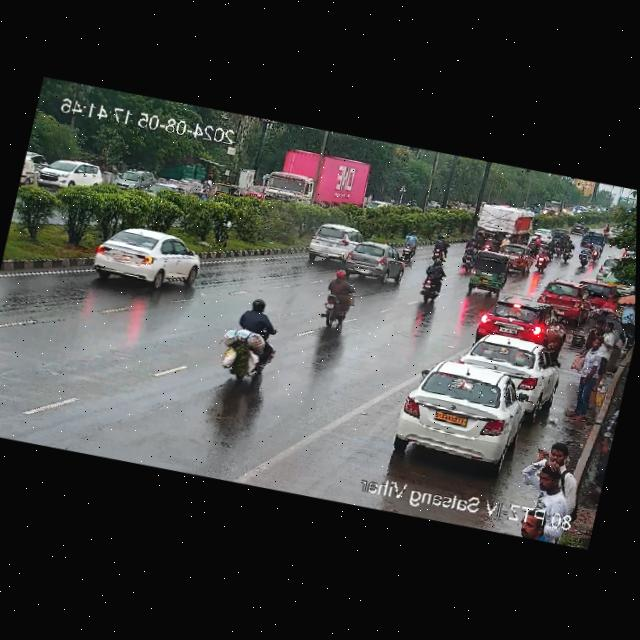car: (393, 353, 534, 474), (88, 217, 208, 299), (456, 329, 561, 412), (473, 292, 562, 351), (36, 155, 109, 200), (338, 237, 405, 285), (305, 217, 362, 264), (463, 247, 513, 298), (538, 277, 595, 321), (110, 163, 154, 196), (573, 278, 618, 310), (491, 240, 531, 274), (146, 178, 187, 204), (596, 254, 626, 288), (211, 179, 240, 204), (582, 228, 608, 254), (570, 221, 587, 235)
motorcycle: (217, 291, 293, 393), (314, 266, 368, 332), (412, 255, 451, 305), (390, 229, 423, 262), (457, 232, 484, 271), (427, 232, 452, 263), (533, 243, 553, 275), (576, 242, 593, 269), (525, 230, 542, 256), (552, 234, 566, 259), (588, 240, 603, 263), (559, 240, 573, 262)
person: (522, 435, 586, 524), (563, 334, 610, 422), (593, 321, 617, 370)
truck: (259, 143, 373, 221), (472, 201, 536, 249), (540, 197, 575, 220)
